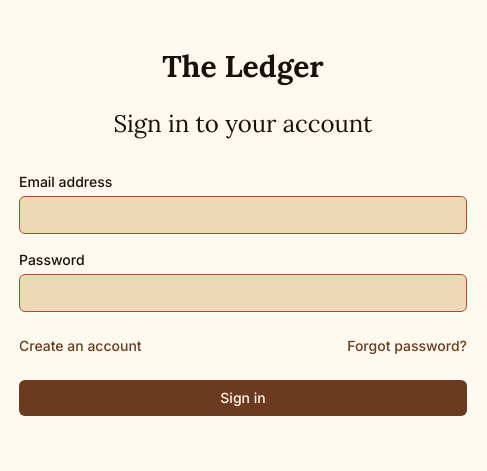
Test: LoginPage › should display error message on failed sign in
Type "test@example.com" into the field labelled "Email address". click: (243, 215)
box: x1=19 y1=196 x2=467 y2=234
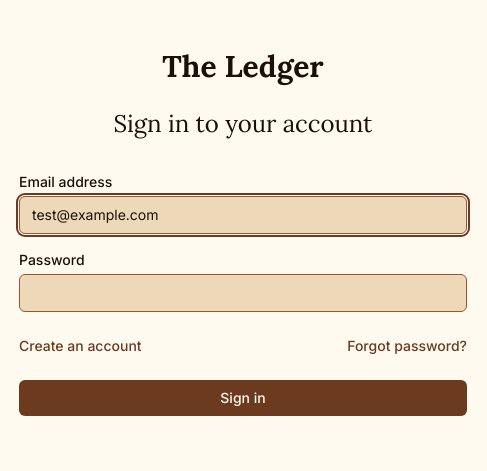
Type "wrongpassword" into the password field labelled "Password". click: (243, 293)
box: x1=19 y1=274 x2=467 y2=312
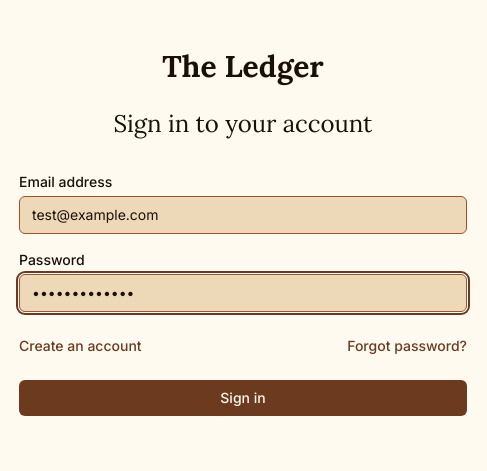
Click the button "Sign in". click: (243, 398)
box: x1=19 y1=380 x2=467 y2=416
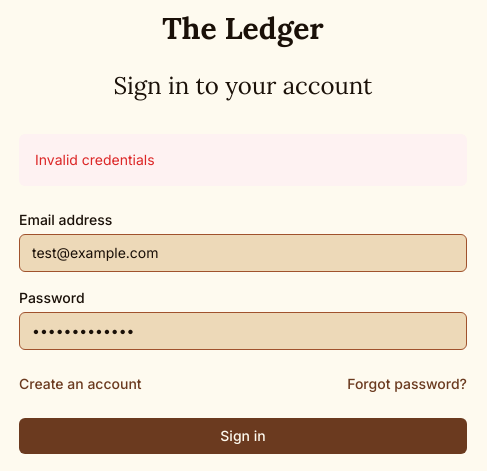
Check: the text "Invalid credentials" is shown, box x1=19 y1=134 x2=467 y2=186
